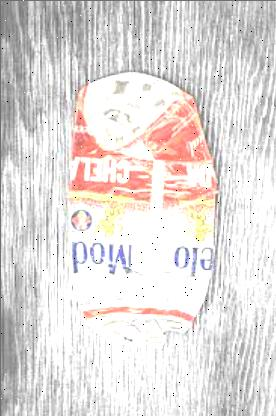Can: (66, 68, 216, 356)
